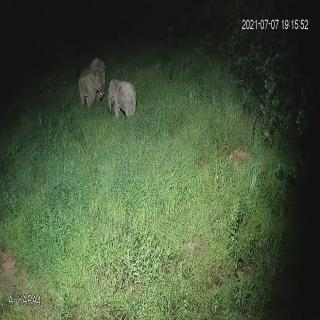Elephant: (106, 73, 142, 127), (78, 56, 108, 112)
